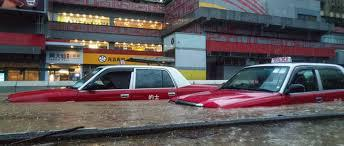water: (0, 92, 343, 132), (35, 117, 343, 145)
